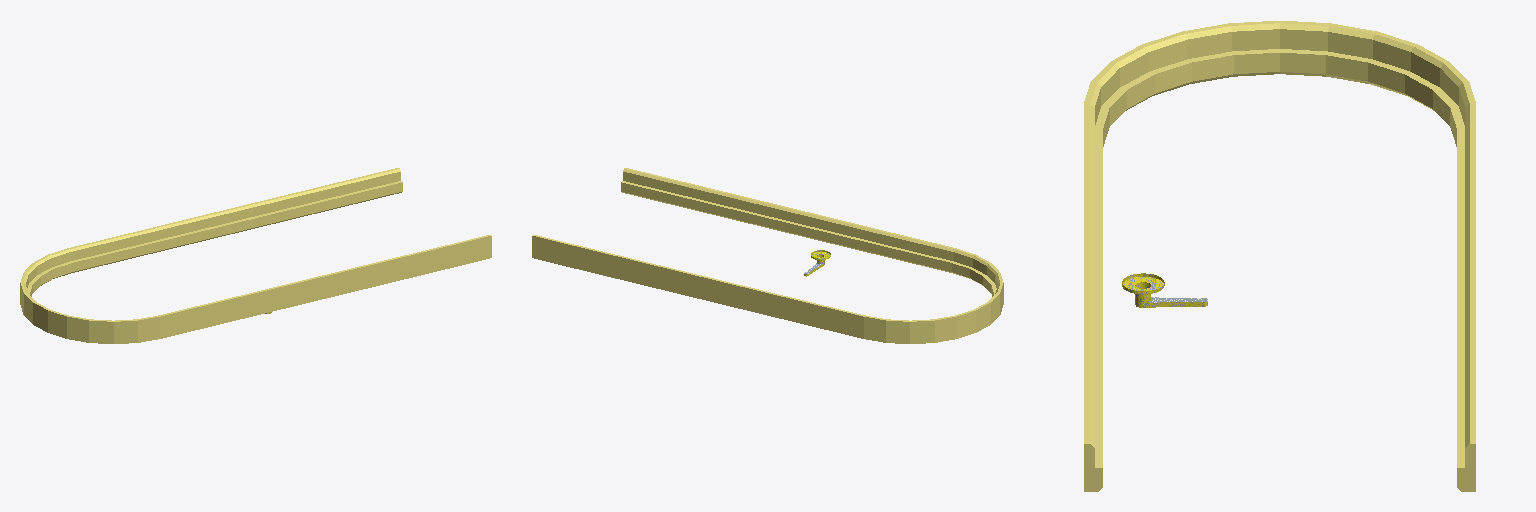
URDF robot description (right-pull-door):
<?xml version="1.0" ?>
<robot name="right-pull-door">
	<link name="base"/>
	<link name="link_0">
		<visual name="out-frame">
			<origin xyz="0 0 0"/>
			<geometry>
				<mesh filename="texture_dae/frame.dae" scale="0.749612061509745 0.749612061509745 0.749612061509745"/>
			</geometry>
		</visual>
		<collision>
			<origin xyz="0 0 0"/>
			<geometry>
				<mesh filename="texture_dae/frame.dae" scale="0.749612061509745 0.749612061509745 0.749612061509745"/>
			</geometry>
		</collision>
	</link>
	<joint name="joint_0" type="fixed">
		<origin rpy="1.570796326794897 0 -1.570796326794897" xyz="0 0 0"/>
		<child link="link_0"/>
		<parent link="base"/>
	</joint>
	<link name="link_1">
		<visual name="surf-board">
			<origin xyz="0.3148438344738816 -0.8401923870341184 0"/>
			<geometry>
				<mesh filename="texture_dae/board.dae" scale="0.749612061509745 0.749612061509745 0.749612061509745"/>
			</geometry>
		</visual>
		<collision>
			<origin xyz="0.3148438344738816 -0.8401923870341184 0"/>
			<geometry>
				<mesh filename="texture_dae/board.dae" scale="0.749612061509745 0.749612061509745 0.749612061509745"/>
			</geometry>
		</collision>
	</link>
	<joint name="joint_1" type="revolute">
		<origin xyz="-0.3148438344738816 0.8401923870341184 0"/>
		<axis xyz="0 -1 0"/>
		<child link="link_1"/>
		<parent link="link_0"/>
		<limit lower="0" upper="1.5079644737231006"/>
	</joint>
	<link name="link_2">
		<visual name="handle">
			<origin xyz="0 0 0"/>
			<geometry>
				<mesh filename="texture_dae/9960014.dae" scale="0.960631214047864 0.960631214047864 0.960631214047864"/>
			</geometry>
		</visual>
		<collision>
			<origin xyz="0 0 0"/>
			<geometry>
				<mesh filename="texture_dae/9960014.dae" scale="0.960631214047864 0.960631214047864 0.960631214047864"/>
			</geometry>
		</collision>
	</link>
	<joint name="joint_2" type="revolute">
		<origin xyz="0.5496741036989395 -0.8966430289812377 0.019168131828470353"/>
		<child link="link_2"/>
		<parent link="link_1"/>
		<axis xyz="0 0 1"/>
		<limit lower="0" upper="1.5079644737231006"/>
	</joint>
</robot>

--- Facts derived from the render (not from the file) ---
Views: 3 orthographic renders of the robot side by side, from view 1: azimuth 30°, elevation 25°; view 2: azimuth 150°, elevation 25°; view 3: azimuth 270°, elevation 25°.
Model right-pull-door with 4 links and 3 joints (2 revolute, 1 fixed), rooted at base, posed all joints at 0.
Links seen in each view (by area): view 1: link_0; view 2: link_0; view 3: link_0, link_2.
Boxes of the visible links, bbox=[...] form: link_0: bbox=[20, 168, 491, 343]; link_0: bbox=[532, 168, 1003, 343]; link_0: bbox=[1084, 21, 1475, 491]; link_2: bbox=[1122, 273, 1207, 307].
Bounding box of the posed robot: 1.72 × 0.6747 × 0.1442 m (x, y, z).
2 mesh visuals loaded from 3 distinct referenced files (2 Collada DAE); not drawn: 1 (reference not matched to a file when rendering).
